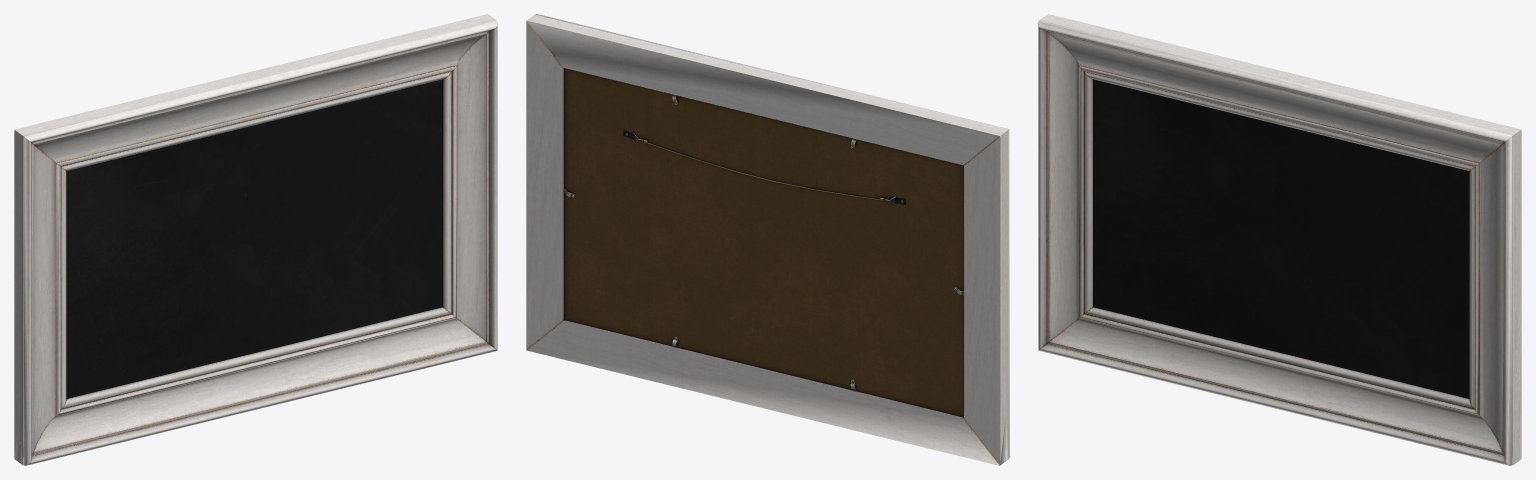
The model's file is hanging_picture_frame_02.glb.
3 renders of one model, left to right at view 1: azimuth 30°, elevation 25°; view 2: azimuth 150°, elevation 25°; view 3: azimuth 330°, elevation 25°, orthographic.
Parts seen in each view (by area): view 1: hanging_picture_frame_02; view 2: hanging_picture_frame_02; view 3: hanging_picture_frame_02.
Part boxes in pixels (box(x1,y1,x2,y2)): hanging_picture_frame_02: box(14, 14, 497, 465); hanging_picture_frame_02: box(526, 14, 1009, 465); hanging_picture_frame_02: box(1038, 14, 1521, 465).
Size of the model in its own units: 0.7518 by 0.5 by 0.0329.
Materials: 3 (3 with a texture image).
